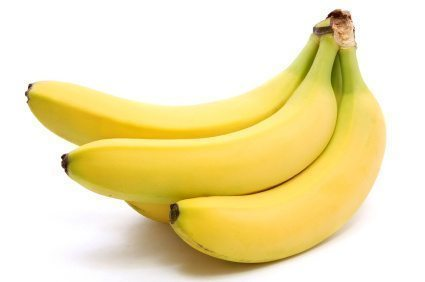banana: (30, 54, 387, 260)
